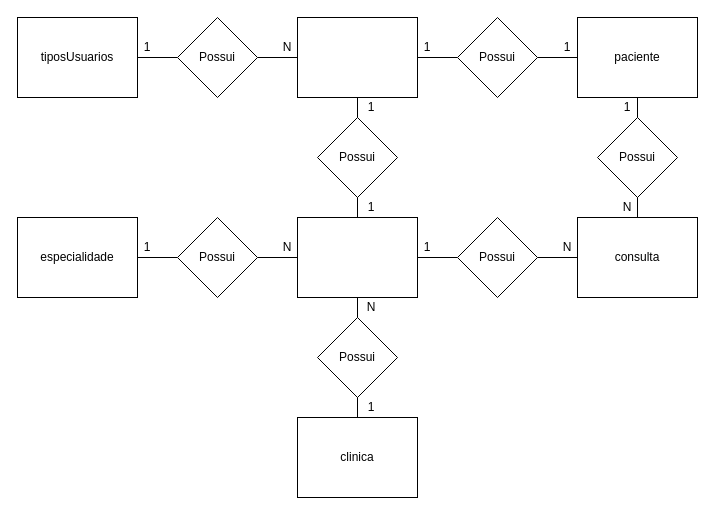
The diagram is 715 pixels wide and 515 high, and some of its shapes have lost their labels. The shapes that lost their labels are listed below. From the top down, each one's box as (x1, y1, x2, y2) in pixels, then its label:
(296, 16, 418, 98): usuario
(296, 216, 418, 298): medico
